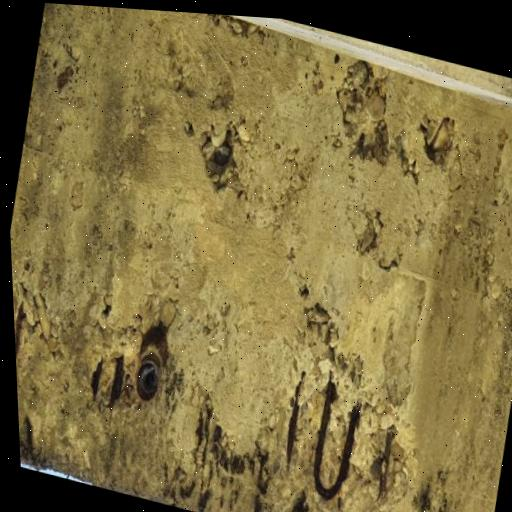exposed_rebar: (314, 379, 361, 500), (286, 372, 305, 467), (378, 427, 394, 501), (109, 355, 124, 410), (19, 416, 33, 464), (15, 303, 25, 360), (91, 359, 103, 400), (219, 450, 230, 470)
spalling: (176, 399, 311, 512), (337, 61, 390, 164), (137, 318, 168, 400), (202, 129, 235, 189), (421, 118, 455, 165), (414, 488, 451, 512)
